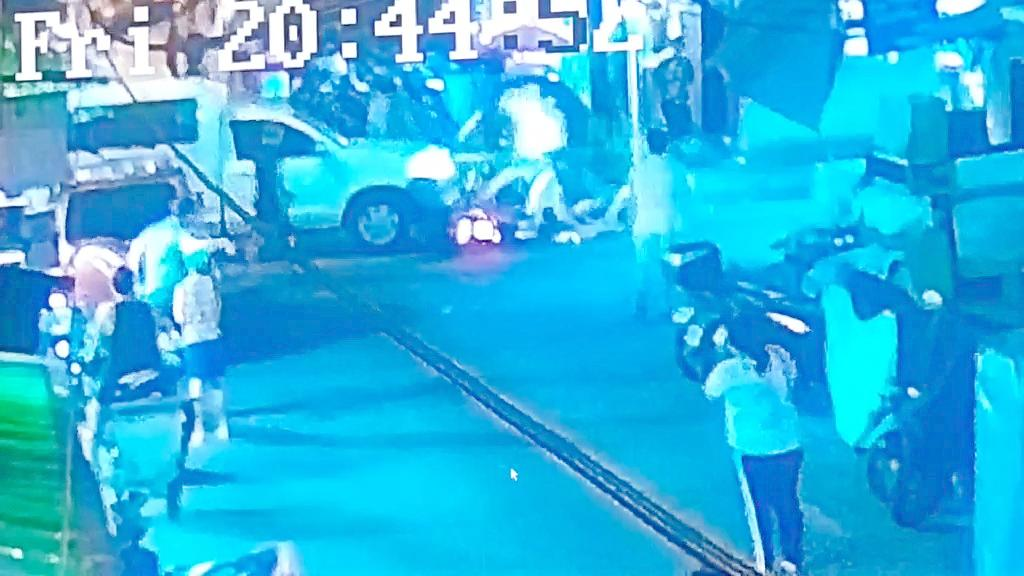Car: (36, 68, 450, 254)
Major Accident: (42, 23, 694, 267)
Motor: (414, 115, 672, 244)
